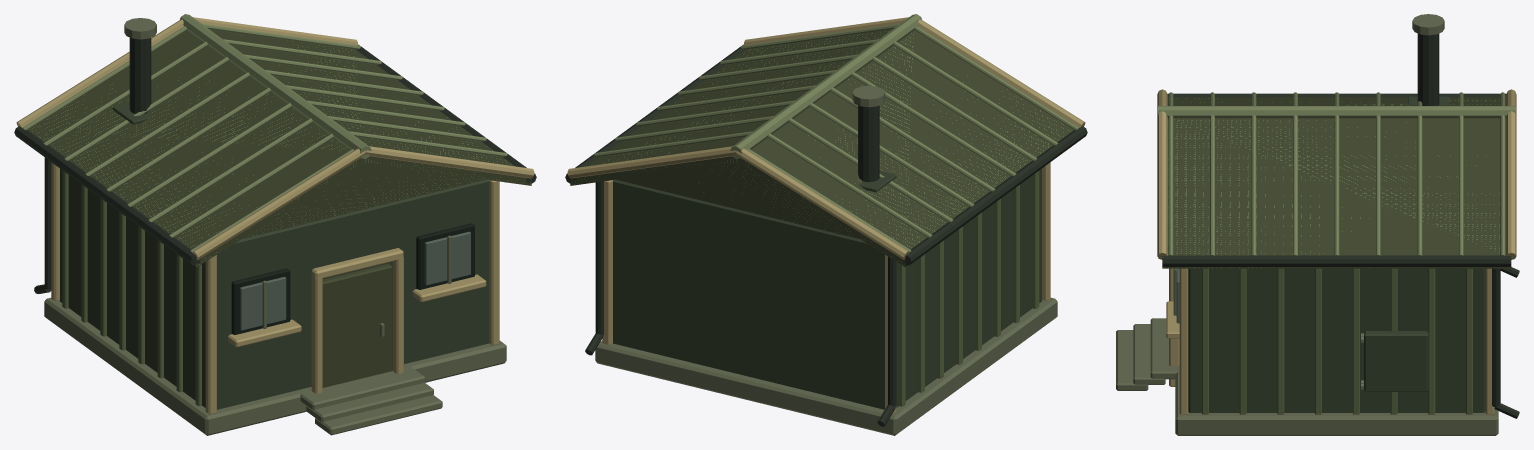
Rendered from house.obj.
The picture shows the model from 3 angles, left to right: view 1: azimuth 30°, elevation 25°; view 2: azimuth 150°, elevation 25°; view 3: azimuth 270°, elevation 25°; orthographic projection.
Parts seen in each view (by area): view 1: house; view 2: house; view 3: house.
Boxes of the visible parts, x1,y1,x2,y2 form: house: [14, 14, 536, 435]; house: [565, 14, 1087, 435]; house: [1116, 14, 1519, 435].
Bounding box in the file's own units: 3.67 × 3.1 × 3.75.
Materials: 1 (1 with a texture image).
